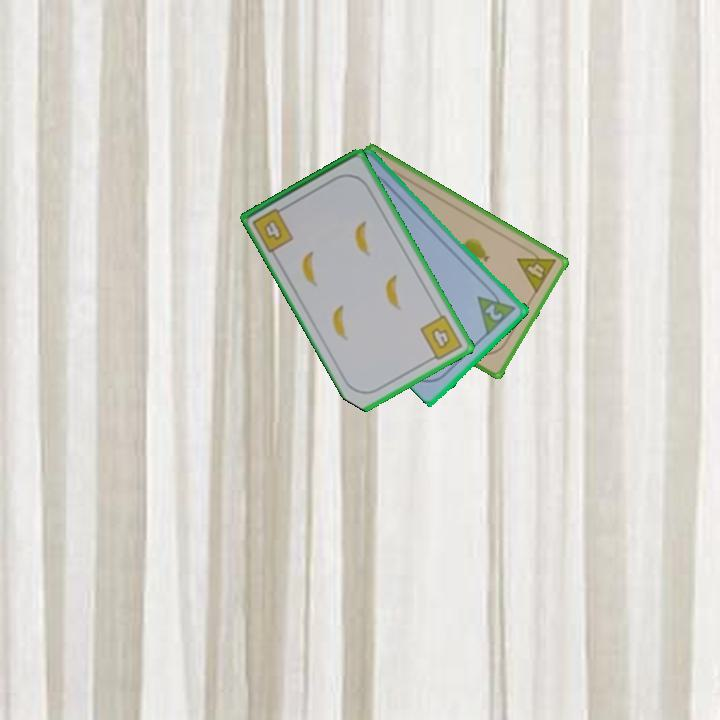2p: (482, 300, 506, 324)
4b: (416, 311, 466, 364), (249, 202, 297, 255)
4p: (513, 243, 559, 296)
